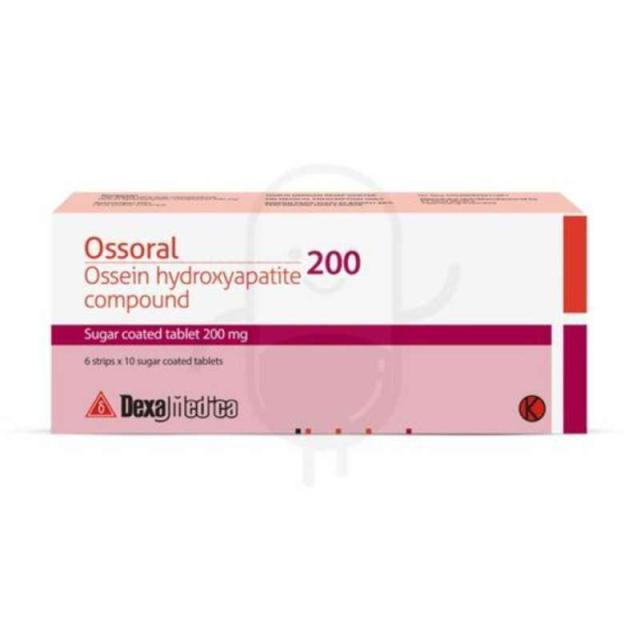drug-name: (84, 232, 180, 260)
